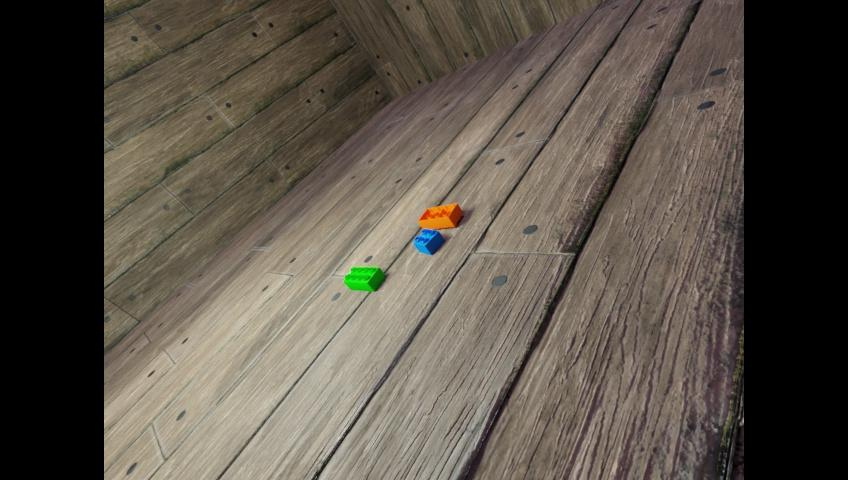2x2_blue: (412, 228, 444, 254)
4x2_green: (343, 266, 385, 291)
4x2_orange: (417, 202, 462, 229)
